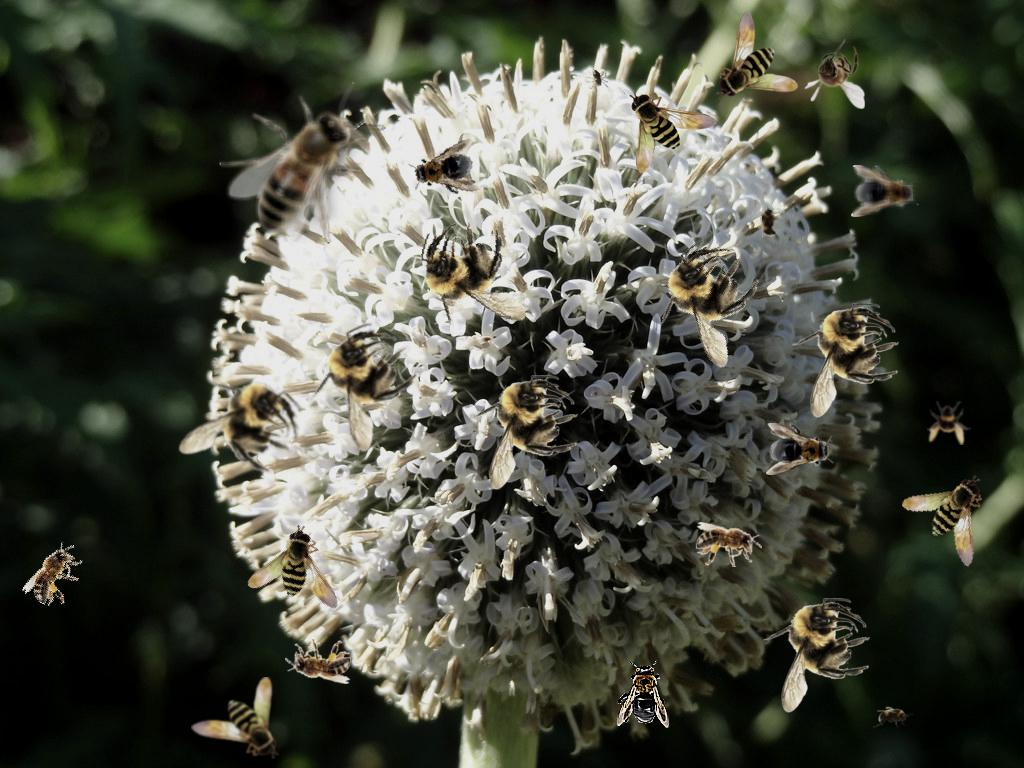Bee: (219, 82, 386, 244), (161, 349, 318, 508), (632, 226, 789, 383), (291, 311, 440, 464), (408, 214, 543, 341), (240, 521, 360, 643), (763, 598, 870, 713), (792, 303, 899, 418), (471, 375, 578, 490), (899, 473, 999, 579), (716, 11, 798, 99), (629, 91, 717, 173), (191, 677, 279, 759), (20, 533, 92, 614), (405, 138, 483, 204), (804, 39, 865, 109), (766, 423, 834, 475), (617, 660, 669, 728), (851, 165, 919, 217), (696, 522, 762, 567), (285, 639, 351, 684), (927, 401, 971, 445), (873, 706, 913, 728), (758, 202, 780, 242)
